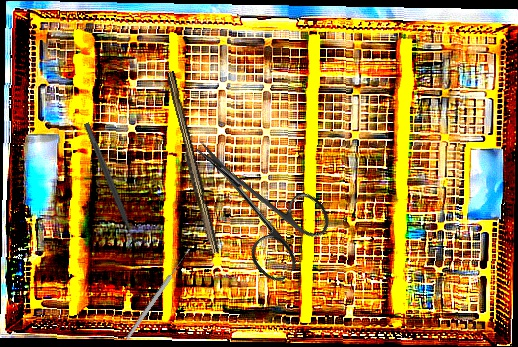Fixation Ring: (76, 119, 149, 250)
Iris Scissors: (165, 113, 340, 288)
Scalpel Handle: (160, 70, 223, 256)
Surgical Spoon: (124, 247, 193, 341)
